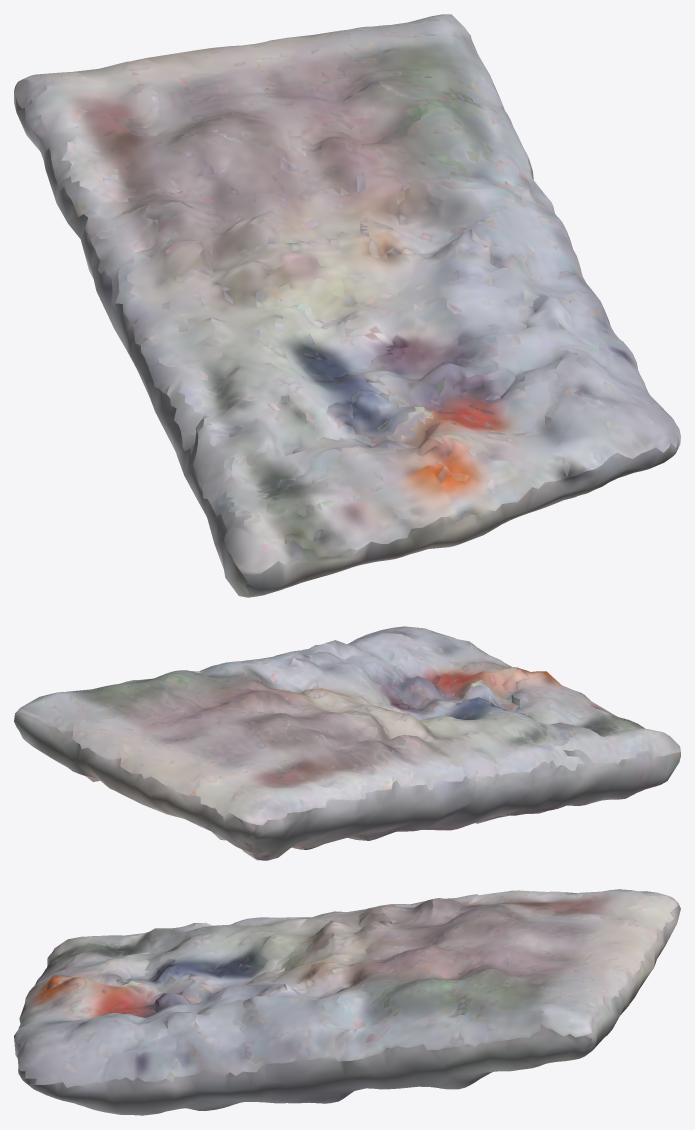
The model's file is 4_place_mat.glb.
3 renders of one model, top to bottom at view 1: azimuth 30°, elevation 25°; view 2: azimuth 150°, elevation 25°; view 3: azimuth 270°, elevation 25°, orthographic. The views are drawn at different scales.
Visible parts, largest first — view 1: 4_place_mat; view 2: 4_place_mat; view 3: 4_place_mat.
Part boxes in pixels (x1,y1,x2,y2): 4_place_mat: (14,14,680,597); 4_place_mat: (14,626,680,860); 4_place_mat: (14,889,680,1115).
Size of the model in its own units: 0.5585 by 0.227 by 0.7468.
1 material, 1 textured.
